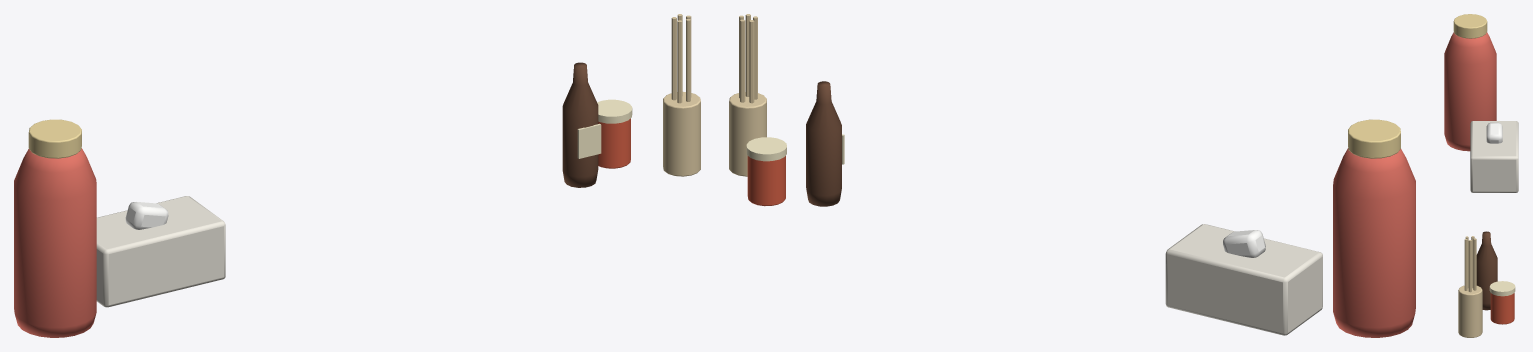
File: dn_table_dressing.fbx
The picture shows the model from 3 angles, left to right: view 1: azimuth 30°, elevation 25°; view 2: azimuth 150°, elevation 25°; view 3: azimuth 270°, elevation 25°; orthographic projection. The views are drawn at different scales.
Parts seen in each view (by area): view 1: Flask, TissueBox, SoyBottle, ChopstickHolder, FlaskCap, ChiliJar, Tissue, SoyLabel, ChiliLid; view 2: Flask, TissueBox, SoyBottle, ChopstickHolder, FlaskCap, ChiliJar, Tissue, ChiliLid; view 3: Flask, TissueBox, ChopstickHolder, SoyBottle, FlaskCap, ChiliJar, ChiliLid, Tissue, Chopstick.001, Chopstick, Chopstick.004, Chopstick.002 (+1 smaller).
Boxes of the visible parts, box(x1,y1,x2,y2) form: Flask: box(14, 148, 96, 337); TissueBox: box(96, 196, 225, 307); SoyBottle: box(562, 62, 598, 187); ChopstickHolder: box(663, 92, 700, 176); FlaskCap: box(28, 119, 81, 158); ChiliJar: box(598, 118, 630, 168); Tissue: box(125, 202, 168, 229); SoyLabel: box(577, 123, 601, 158); ChiliLid: box(597, 99, 632, 123); Flask: box(1333, 148, 1415, 337); TissueBox: box(1165, 224, 1322, 335); SoyBottle: box(806, 81, 841, 206); ChopstickHolder: box(729, 92, 766, 176); FlaskCap: box(1348, 119, 1400, 158); ChiliJar: box(747, 156, 785, 206); Tissue: box(1223, 230, 1265, 257); ChiliLid: box(746, 137, 786, 161); Flask: box(1444, 32, 1496, 151); TissueBox: box(1470, 121, 1518, 192); ChopstickHolder: box(1458, 285, 1482, 337); SoyBottle: box(1476, 231, 1497, 310); FlaskCap: box(1453, 14, 1487, 38); ChiliJar: box(1490, 293, 1514, 324); ChiliLid: box(1489, 281, 1515, 296); Tissue: box(1486, 122, 1502, 143); Chopstick.001: box(1473, 238, 1476, 290); Chopstick: box(1468, 240, 1471, 292); Chopstick.004: box(1464, 239, 1467, 290); Chopstick.002: box(1471, 236, 1474, 288).
Bounding box in the file's own units: 1.22 × 0.33 × 0.185.
